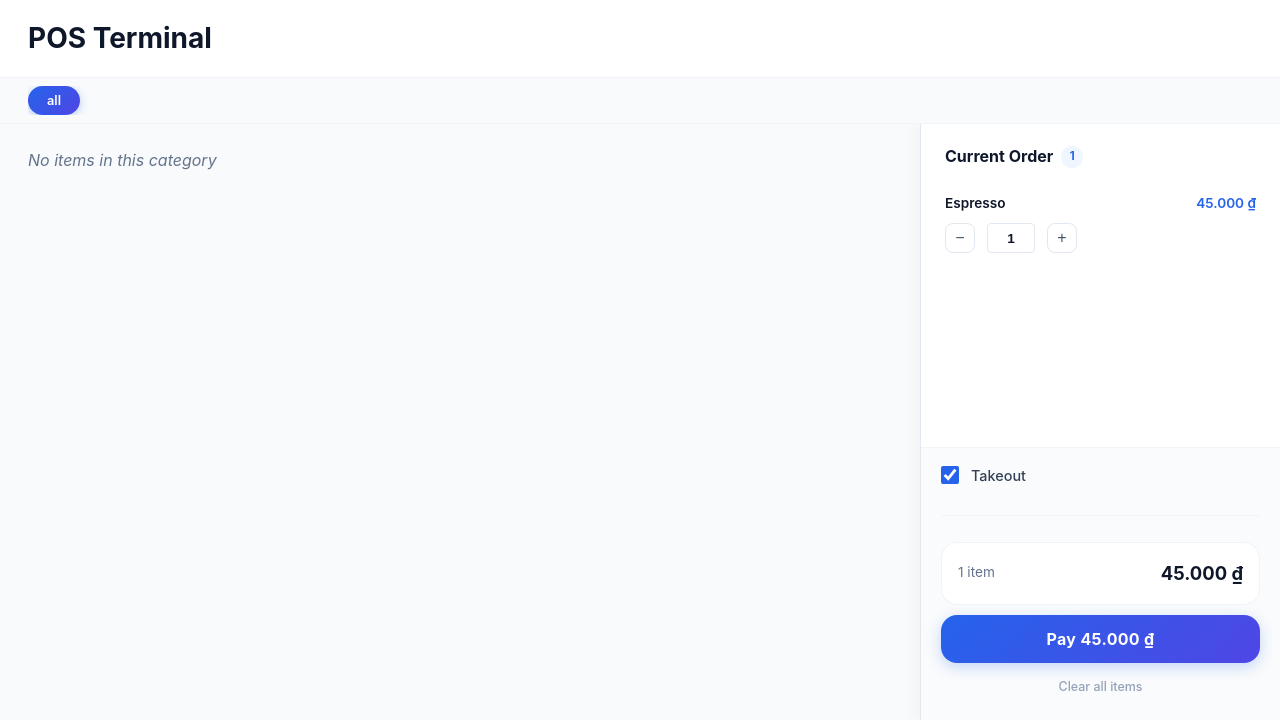
Scenario: POSPage › shows Order button when takeout is unchecked
Click the checkbox labelled "Takeout" at x=950, y=475, box x1=941 y1=466 x2=959 y2=484
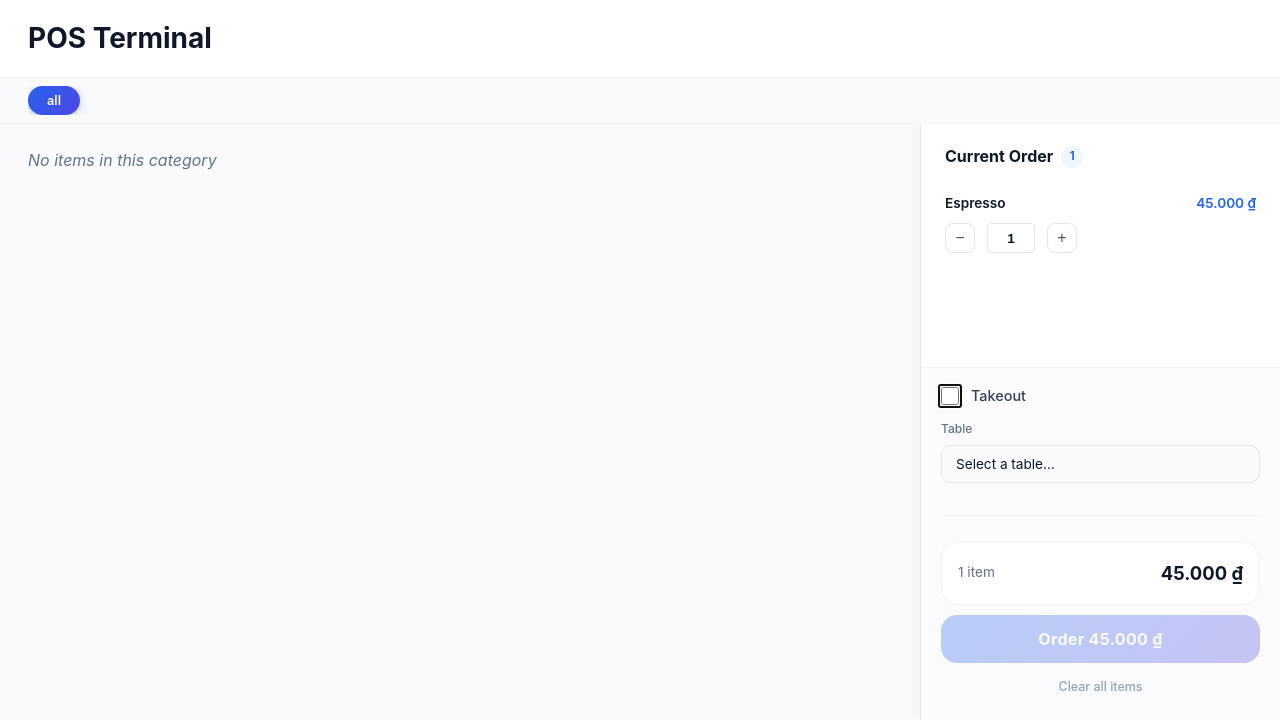
Check: the button "Order 45.000 ₫" is shown, box x1=941 y1=615 x2=1260 y2=663
